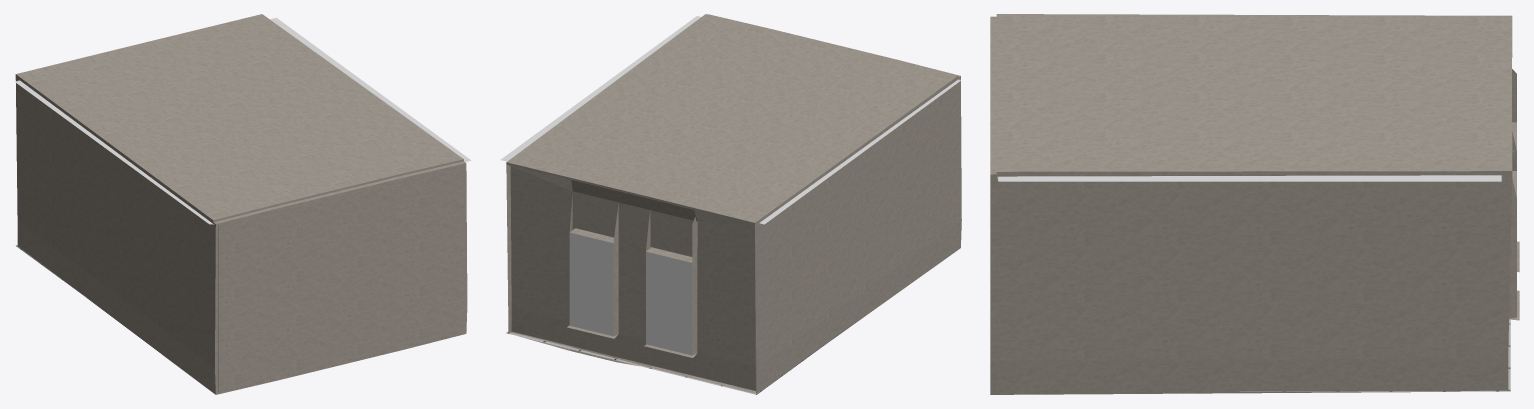
File: Ruangan.fbx
The picture shows the model from 3 angles, left to right: view 1: azimuth 30°, elevation 25°; view 2: azimuth 150°, elevation 25°; view 3: azimuth 270°, elevation 25°; orthographic projection. The views are drawn at different scales.
Parts seen in each view (by area): view 1: Plane.057; view 2: Plane.057; view 3: Plane.057.
Part boxes in pixels (left/top/right/bottom): Plane.057: left=15, top=14, right=471, bottom=394; Plane.057: left=500, top=14, right=961, bottom=394; Plane.057: left=990, top=14, right=1519, bottom=394.
Bounding box in the file's own units: 2079 × 1320 × 2815.
1 material, 1 textured.
